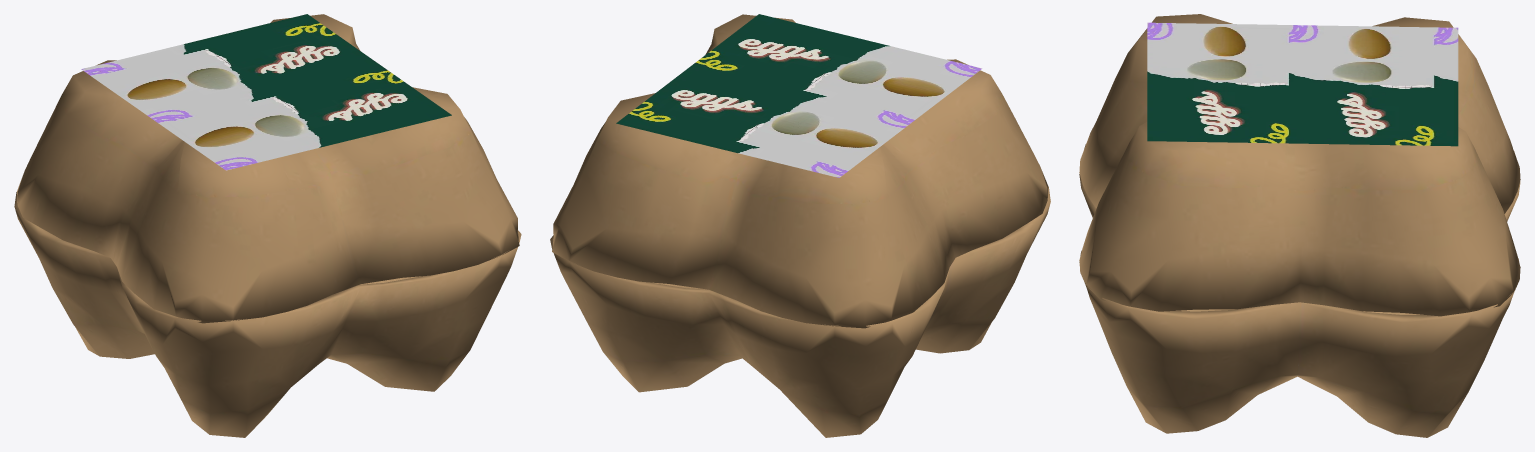
Rendered from eggs.glb.
3 views of the same model, side by side, from view 1: azimuth 30°, elevation 25°; view 2: azimuth 150°, elevation 25°; view 3: azimuth 270°, elevation 25° (orthographic). The views are drawn at different scales.
Parts seen in each view (by area): view 1: Object_12.001; view 2: Object_12.001; view 3: Object_12.001.
Boxes of the visible parts, x1=… form: Object_12.001: x1=14, y1=14, x2=521, y2=437; Object_12.001: x1=550, y1=14, x2=1050, y2=437; Object_12.001: x1=1079, y1=14, x2=1520, y2=437.
Size of the model in its own units: 1.11 by 0.8063 by 1.09.
Materials: 1 (1 with a texture image).
